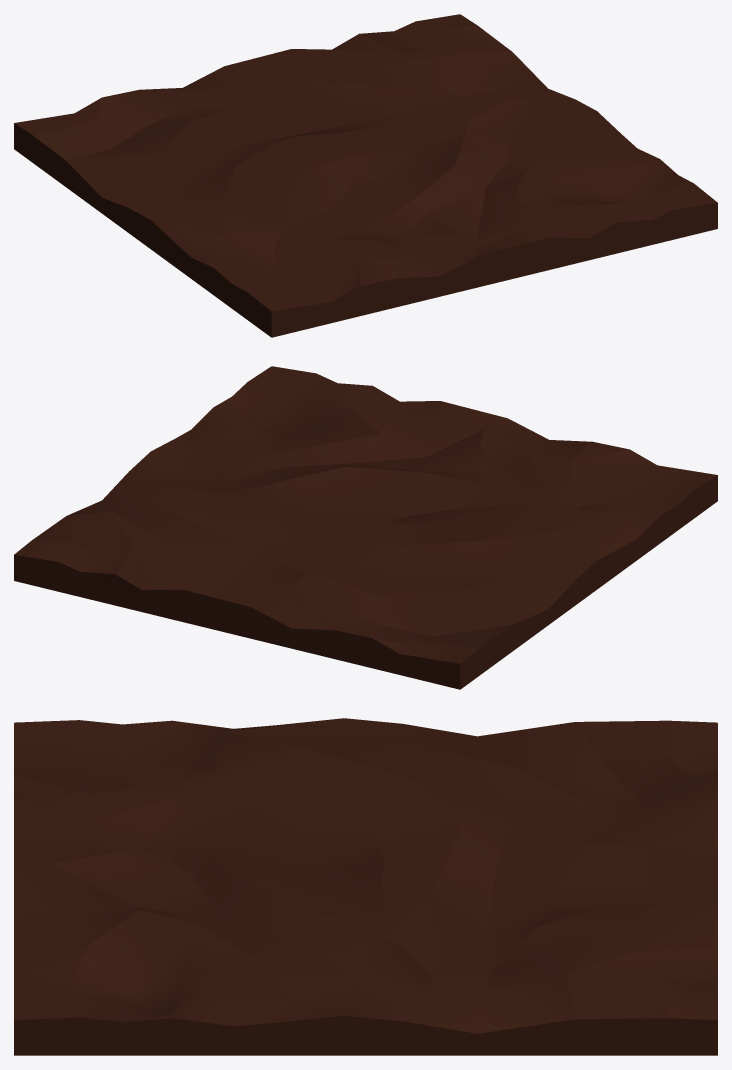
File: Ground_Base_A.fbx
3 renders of one model, top to bottom at view 1: azimuth 30°, elevation 25°; view 2: azimuth 150°, elevation 25°; view 3: azimuth 270°, elevation 25°, orthographic. The views are drawn at different scales.
Visible parts, largest first — view 1: Ground_Base_A; view 2: Ground_Base_A; view 3: Ground_Base_A.
Part boxes in pixels (x1=…): Ground_Base_A: x1=14, y1=14, x2=717, y2=337; Ground_Base_A: x1=14, y1=366, x2=717, y2=689; Ground_Base_A: x1=14, y1=718, x2=717, y2=1055.
Size of the model in its own units: 147 by 12.24 by 147.
